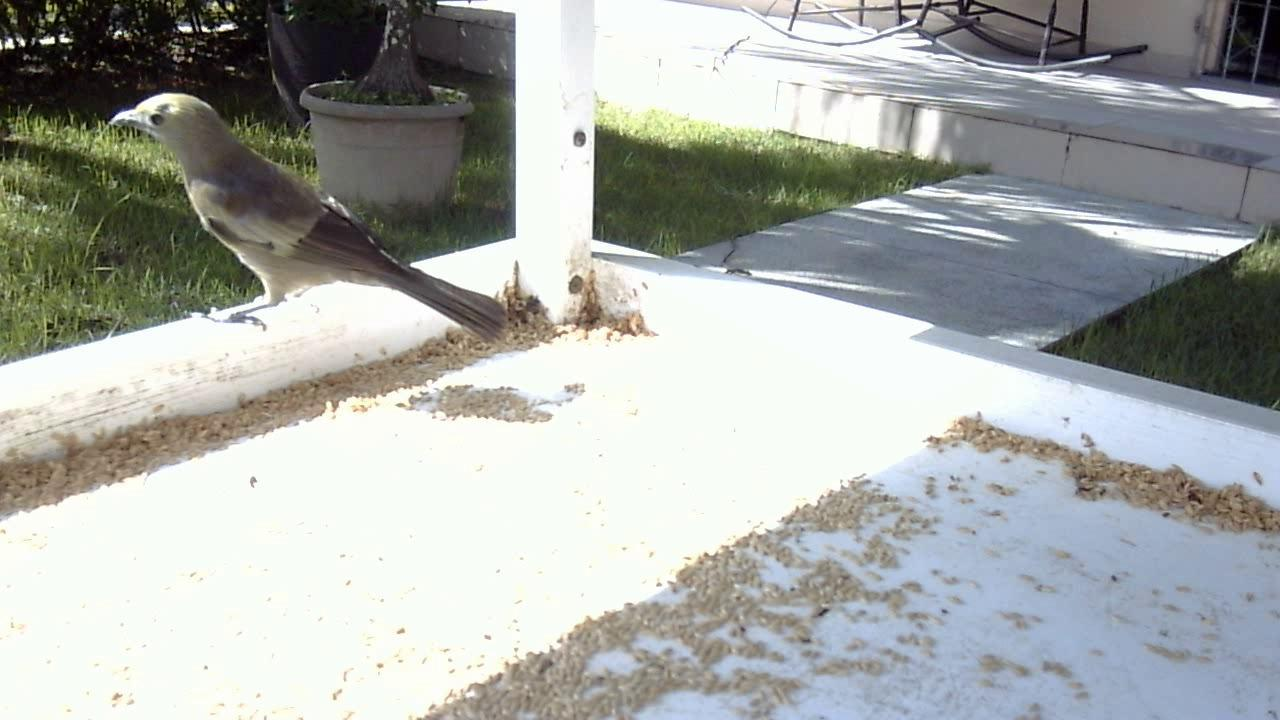sanhaco_do_coqueiro: (105, 77, 518, 376)
